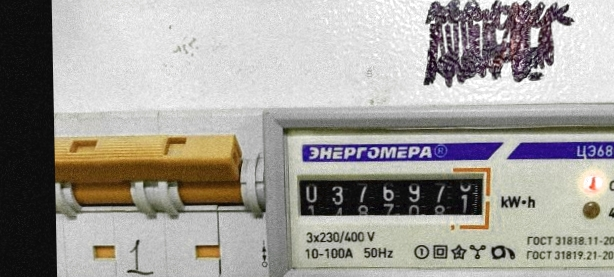0: (303, 181, 319, 202)
1: (459, 192, 470, 213)
3: (330, 182, 344, 206)
6: (382, 179, 395, 201)
7: (356, 179, 369, 203), (433, 179, 446, 203)
9: (407, 180, 420, 202)
screen: (290, 163, 495, 235)
